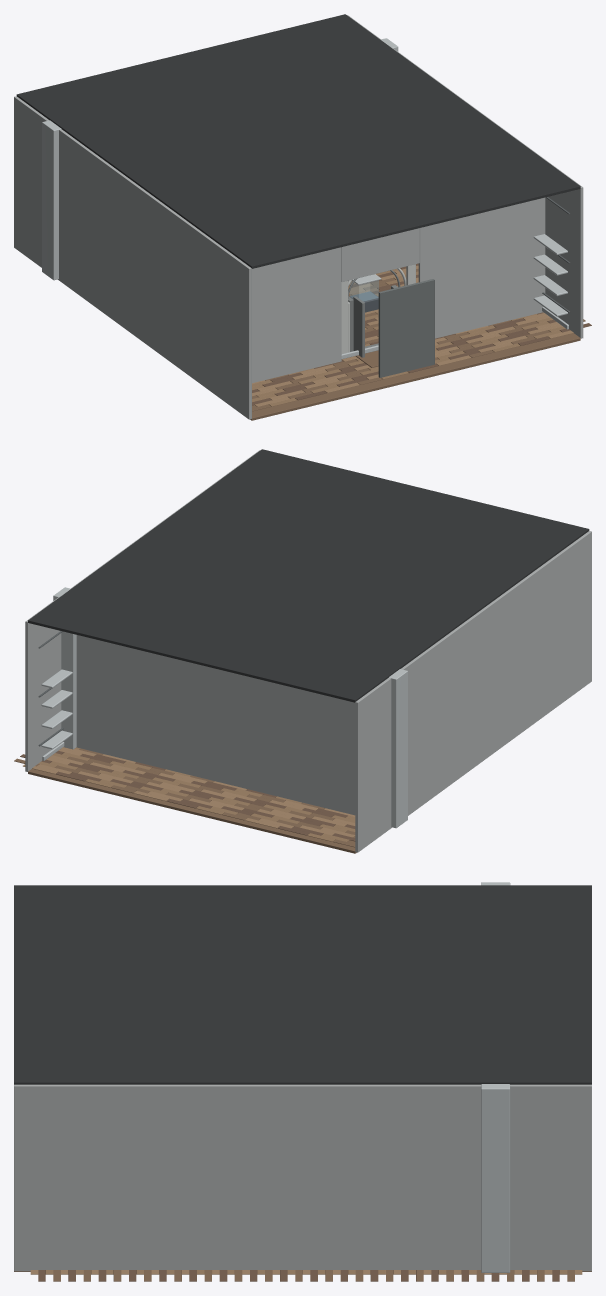
File: vault-room.glb
3 renders of one model, top to bottom at view 1: azimuth 30°, elevation 25°; view 2: azimuth 150°, elevation 25°; view 3: azimuth 270°, elevation 25°, orthographic. The views are drawn at different scales.
Parts seen in each view (by area): view 1: ceiling, left_wall, vault_front_wall_right, vault_front_wall_left, vault_vestibule_wall, right_wall, floor_slab, vault_front_wall_top, back_corner_post_-10.36, vault_rear_left_reveal, vault_plate_left; view 2: ceiling, left_wall, back_wall, right_wall, back_corner_post_-10.36, floor_slab, back_corner_post_10.36; view 3: ceiling, right_wall, back_corner_post_10.36.
Boxes of the visible parts, box(x1,y1,x2,y2) form: ceiling: box(16, 14, 580, 268); left_wall: box(14, 96, 251, 419); vault_front_wall_right: box(418, 197, 545, 338); vault_front_wall_left: box(252, 247, 341, 383); vault_vestibule_wall: box(378, 279, 434, 377); right_wall: box(347, 15, 583, 338); floor_slab: box(250, 333, 580, 420); vault_front_wall_top: box(341, 228, 419, 281); back_corner_post_-10.36: box(42, 120, 61, 280); vault_rear_left_reveal: box(353, 296, 364, 357); vault_plate_left: box(341, 281, 348, 353); ceiling: box(28, 449, 589, 702); left_wall: box(355, 531, 591, 852); back_wall: box(76, 635, 355, 815); right_wall: box(25, 450, 259, 771); back_corner_post_-10.36: box(388, 669, 407, 828); floor_slab: box(28, 768, 356, 853); back_corner_post_10.36: box(53, 587, 76, 749); ceiling: box(14, 885, 591, 1084); right_wall: box(14, 1084, 591, 1271); back_corner_post_10.36: box(481, 1084, 510, 1272).
Size of the model in its own units: 22.86 by 9.42 by 26.
